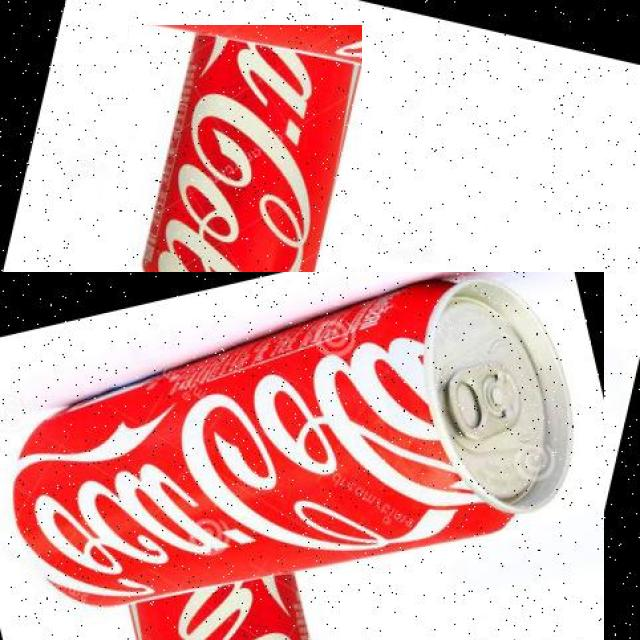coca-cola: (0, 272, 604, 640), (128, 25, 362, 348)
